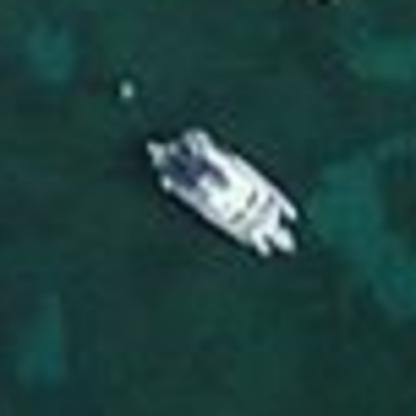ship: (139, 118, 308, 263)
